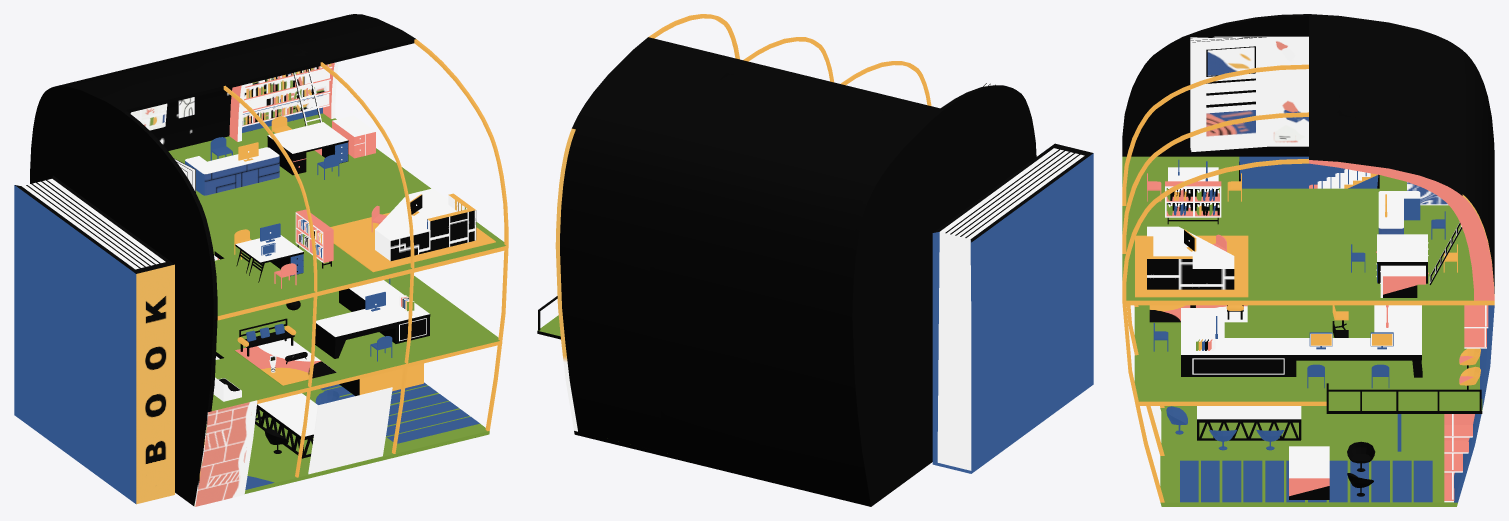
The picture shows the model from 3 angles, left to right: view 1: azimuth 30°, elevation 25°; view 2: azimuth 150°, elevation 25°; view 3: azimuth 270°, elevation 25°; orthographic projection.
Parts seen in each view (by area): view 1: 挤压, 立方体_24, 立方体_22, 立方体_5, 立方体_1_15, 立方体_1_8, 立方体_11_2, 立方体_6, 地毯, 立方体_16, 立方体_1_12, table_2_2 (+14 smaller); view 2: 挤压, 立方体_24; view 3: 挤压, 立方体_11_2, 立方体_6_3, 立方体_1_8, 立方体_5, 立方体_3_4, 立方体_15, 地毯, 立方体_21, 立方体_17, 立方体_1_12, 立方体_6 (+15 smaller).
Part boxes in pixels (<box>): 挤压: <box>30,14,508,506</box>; 立方体_24: <box>14,175,174,504</box>; 立方体_22: <box>308,387,392,474</box>; 立方体_5: <box>375,188,476,261</box>; 立方体_1_15: <box>194,400,257,506</box>; 立方体_1_8: <box>214,255,430,358</box>; 立方体_11_2: <box>320,382,479,443</box>; 立方体_6: <box>185,147,279,195</box>; 地毯: <box>330,212,495,272</box>; 立方体_16: <box>234,338,337,386</box>; 立方体_1_12: <box>256,393,317,439</box>; table_2_2: <box>280,131,348,175</box>; 挤压: <box>555,14,1036,506</box>; 立方体_24: <box>932,143,1093,473</box>; 挤压: <box>1122,14,1494,506</box>; 立方体_11_2: <box>1180,460,1432,502</box>; 立方体_6_3: <box>1191,37,1269,151</box>; 立方体_1_8: <box>1181,305,1422,377</box>; 立方体_5: <box>1147,226,1234,289</box>; 立方体_3_4: <box>1269,36,1308,146</box>; 立方体_15: <box>1326,391,1482,413</box>; 地毯: <box>1135,235,1248,297</box>; 立方体_21: <box>1289,446,1329,499</box>; 立方体_17: <box>1181,358,1296,376</box>; 立方体_1_12: <box>1197,406,1301,422</box>; 立方体_6: <box>1378,191,1420,234</box>.
Bounding box in the file's own units: 1415 × 1197 × 1164.
